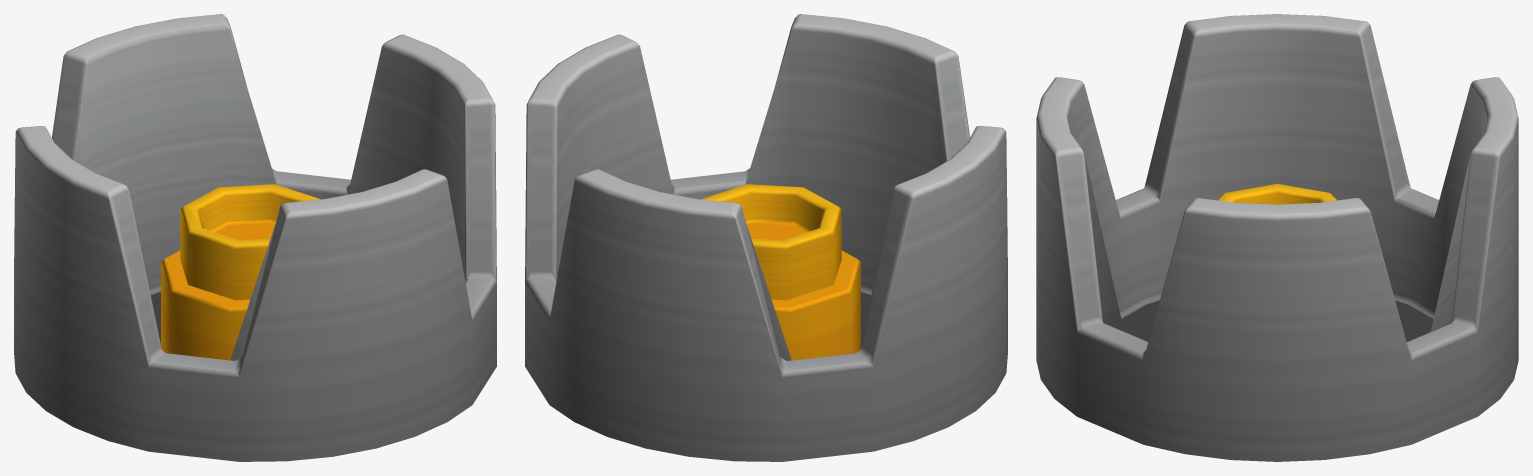
Rendered from Stove_04.fbx.
The picture shows the model from 3 angles, left to right: view 1: azimuth 30°, elevation 25°; view 2: azimuth 150°, elevation 25°; view 3: azimuth 270°, elevation 25°; orthographic projection.
Visible parts, largest first — view 1: Stove_04; view 2: Stove_04; view 3: Stove_04.
Part boxes in pixels (box(x1,y1,x2,y2)): Stove_04: box(14, 14, 496, 461); Stove_04: box(525, 14, 1007, 461); Stove_04: box(1036, 14, 1518, 461).
Bounding box in the file's own units: 364 × 205 × 364.
